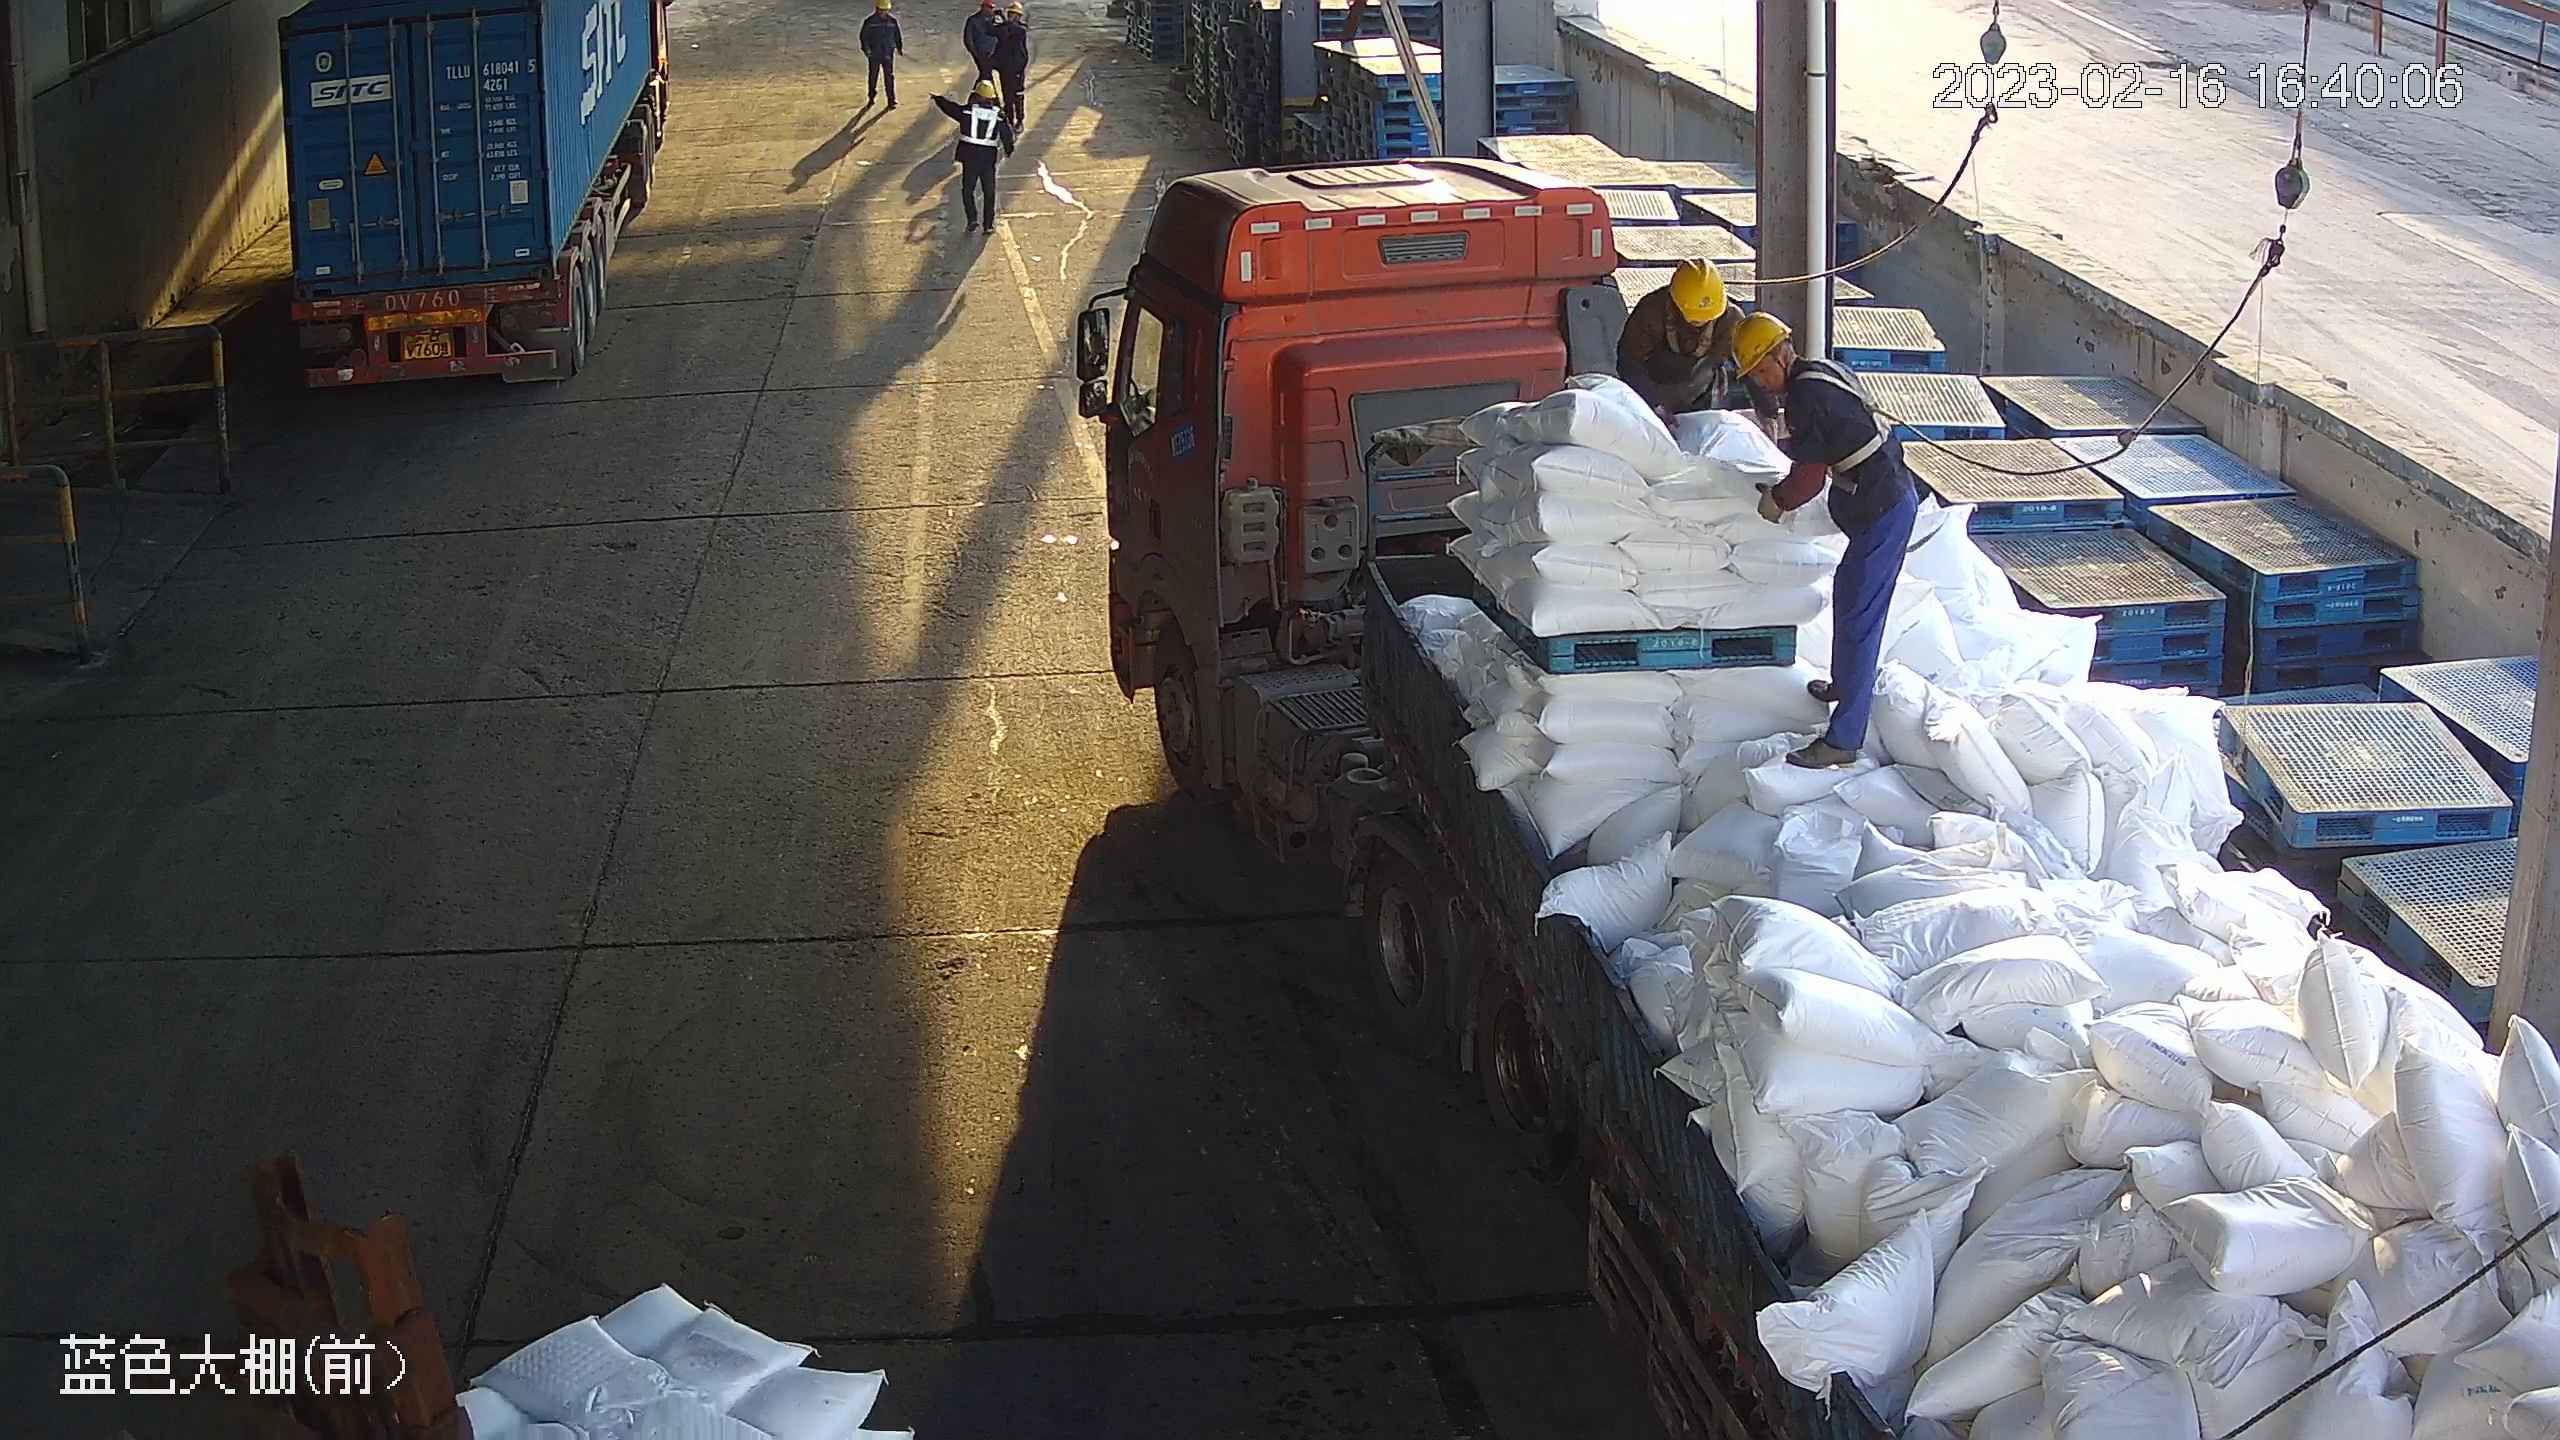belt: (1793, 358, 1896, 496), (1663, 295, 1715, 358)
head: (1732, 310, 1850, 429), (1633, 257, 1741, 343), (958, 79, 1005, 126)
helmet: (1730, 310, 1793, 381), (1669, 257, 1726, 321), (970, 79, 997, 98)
people: (1731, 309, 1919, 769), (930, 78, 1018, 236), (988, 2, 1029, 133), (858, 1, 903, 110), (963, 1, 997, 88)
truck: (1074, 159, 2560, 1440), (274, 1, 669, 392)
